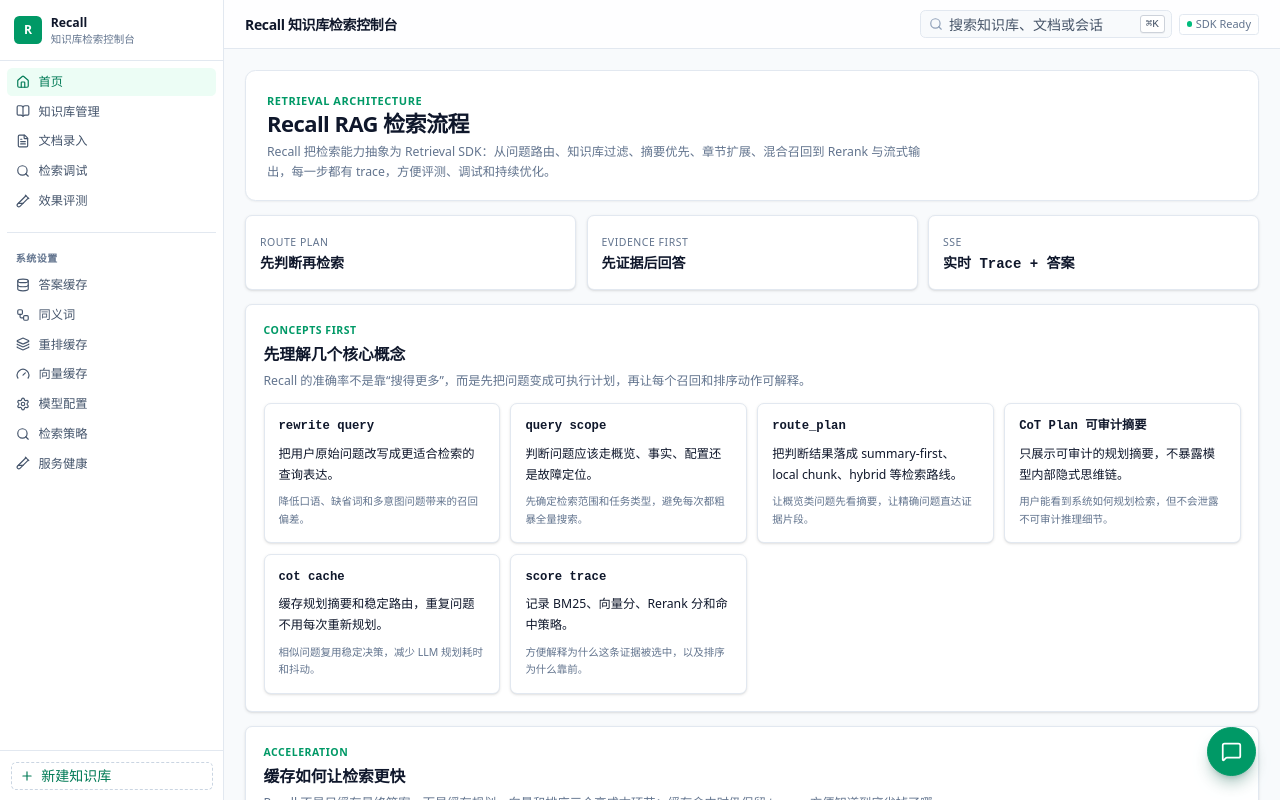
Scenario: app shell and chat assistant › loads chat sessions from the backend and creates a new backend session
The image size is (1280, 800).
Click the button named "打开 Recall 助手" at (1231, 751), box [1206,726,1256,776]
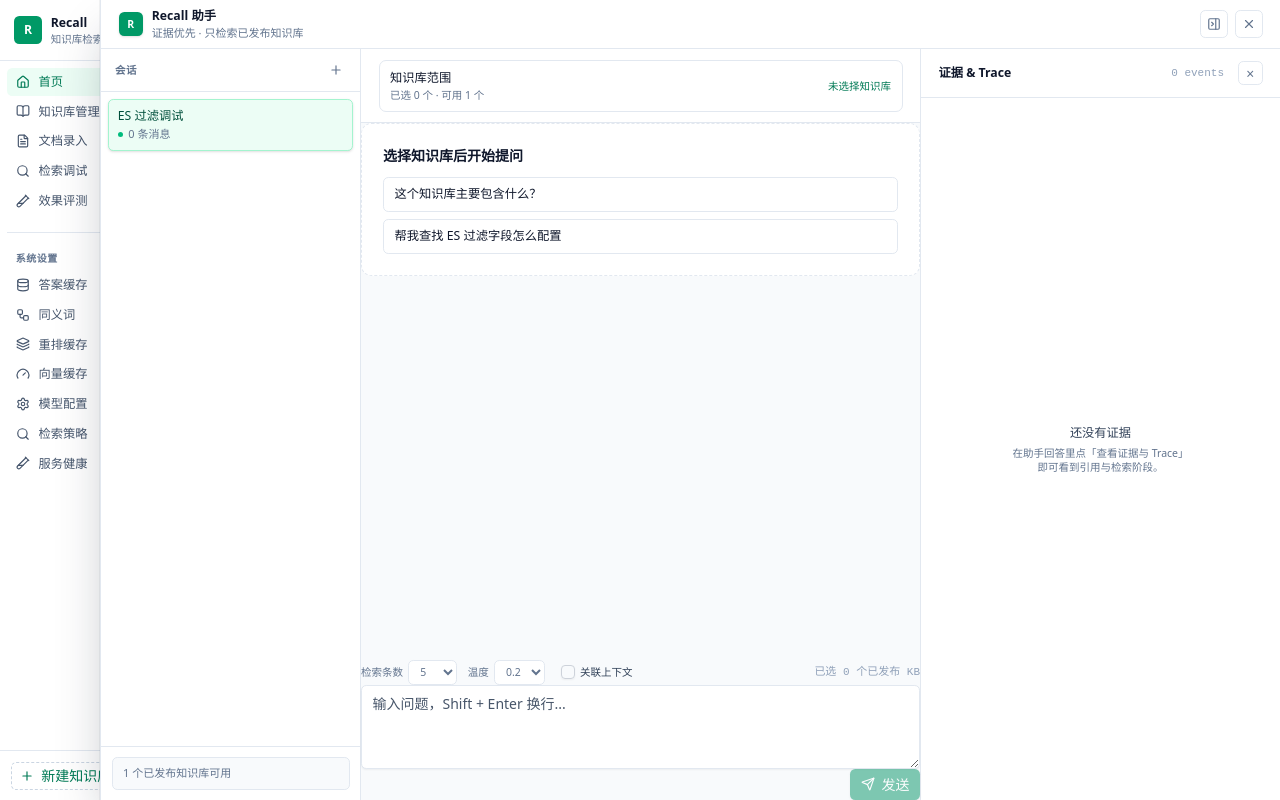
Now the button "ES 过滤调试 0 条消息" is shown, box [108,99,353,151]
Click the button named "新建会话" at (336, 70), box [325,60,346,80]
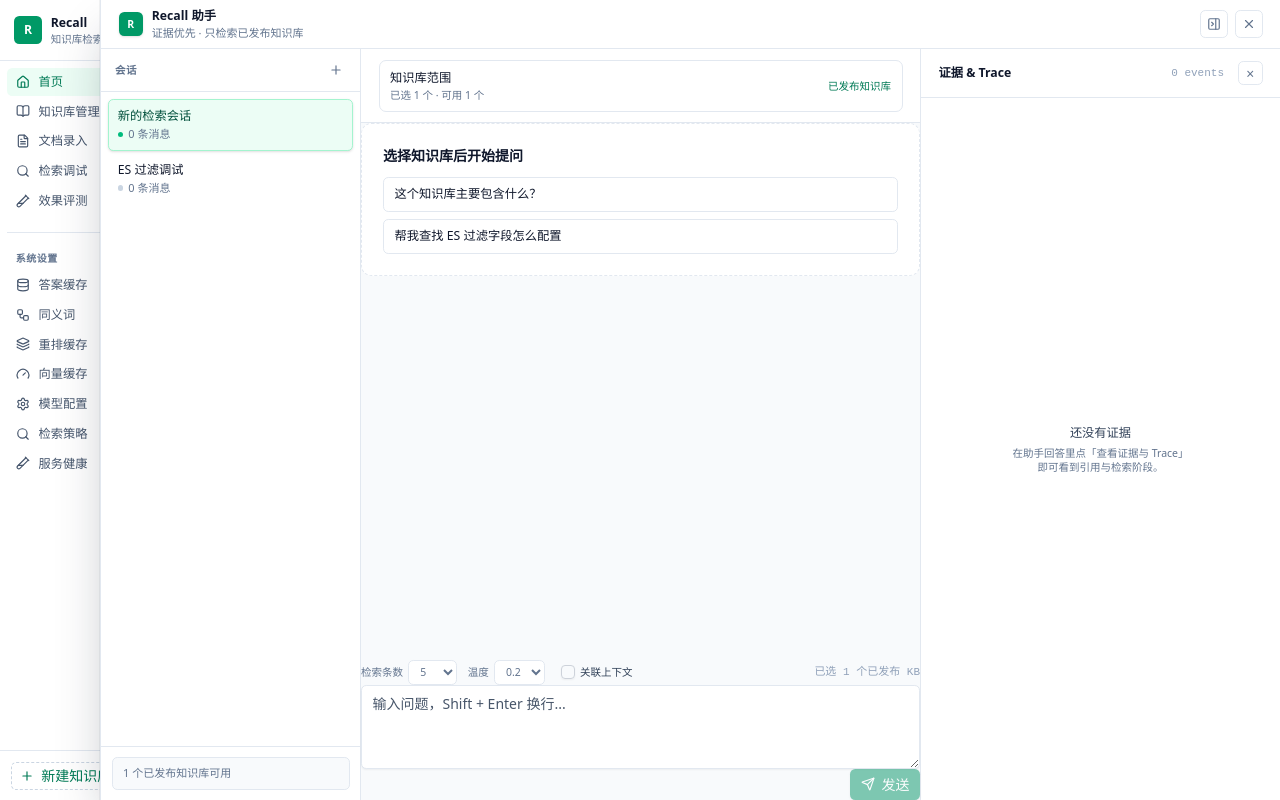
Now the button "新的检索会话 0 条消息" is shown, box [108,99,353,151]
